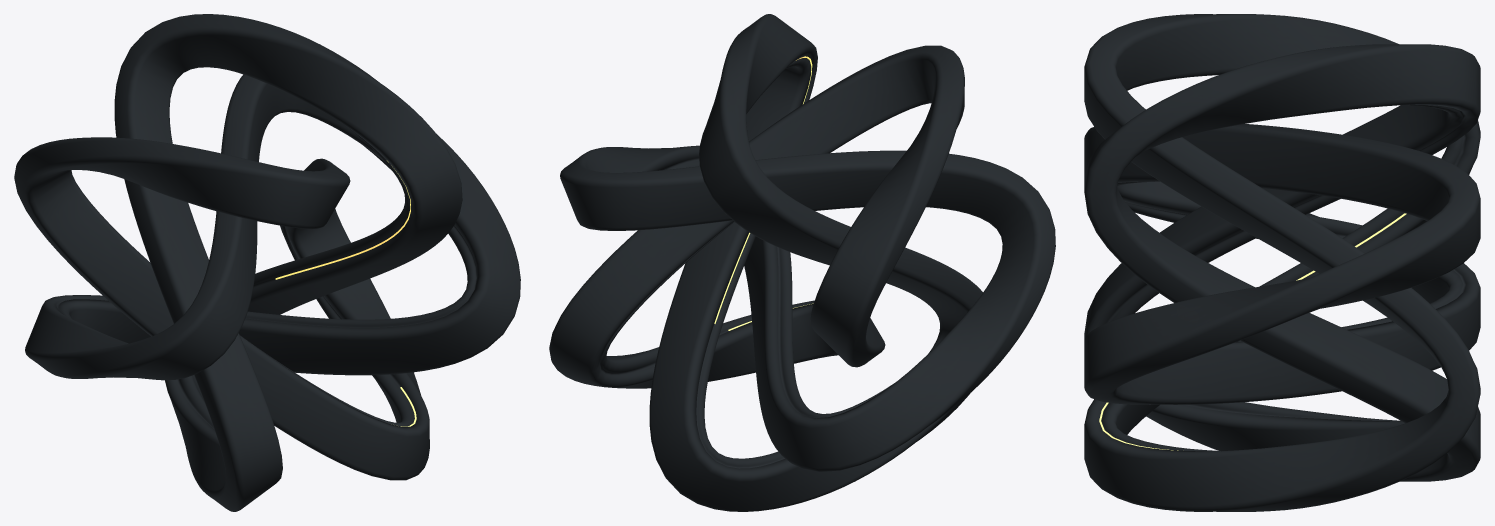
The model's file is icon_services_lod0.glb.
The picture shows the model from 3 angles, left to right: view 1: azimuth 30°, elevation 25°; view 2: azimuth 150°, elevation 25°; view 3: azimuth 270°, elevation 25°; orthographic projection. The views are drawn at different scales.
Visible parts, largest first — view 1: ICO_s01_services_LOD0; view 2: ICO_s01_services_LOD0; view 3: ICO_s01_services_LOD0.
Boxes of the visible parts, x1=… form: ICO_s01_services_LOD0: x1=14, y1=14, x2=520, y2=511; ICO_s01_services_LOD0: x1=549, y1=14, x2=1055, y2=511; ICO_s01_services_LOD0: x1=1084, y1=14, x2=1480, y2=511.
Size of the model in its own units: 3.2 by 3.2 by 2.5.
Materials: 2 (1 with a texture image).
